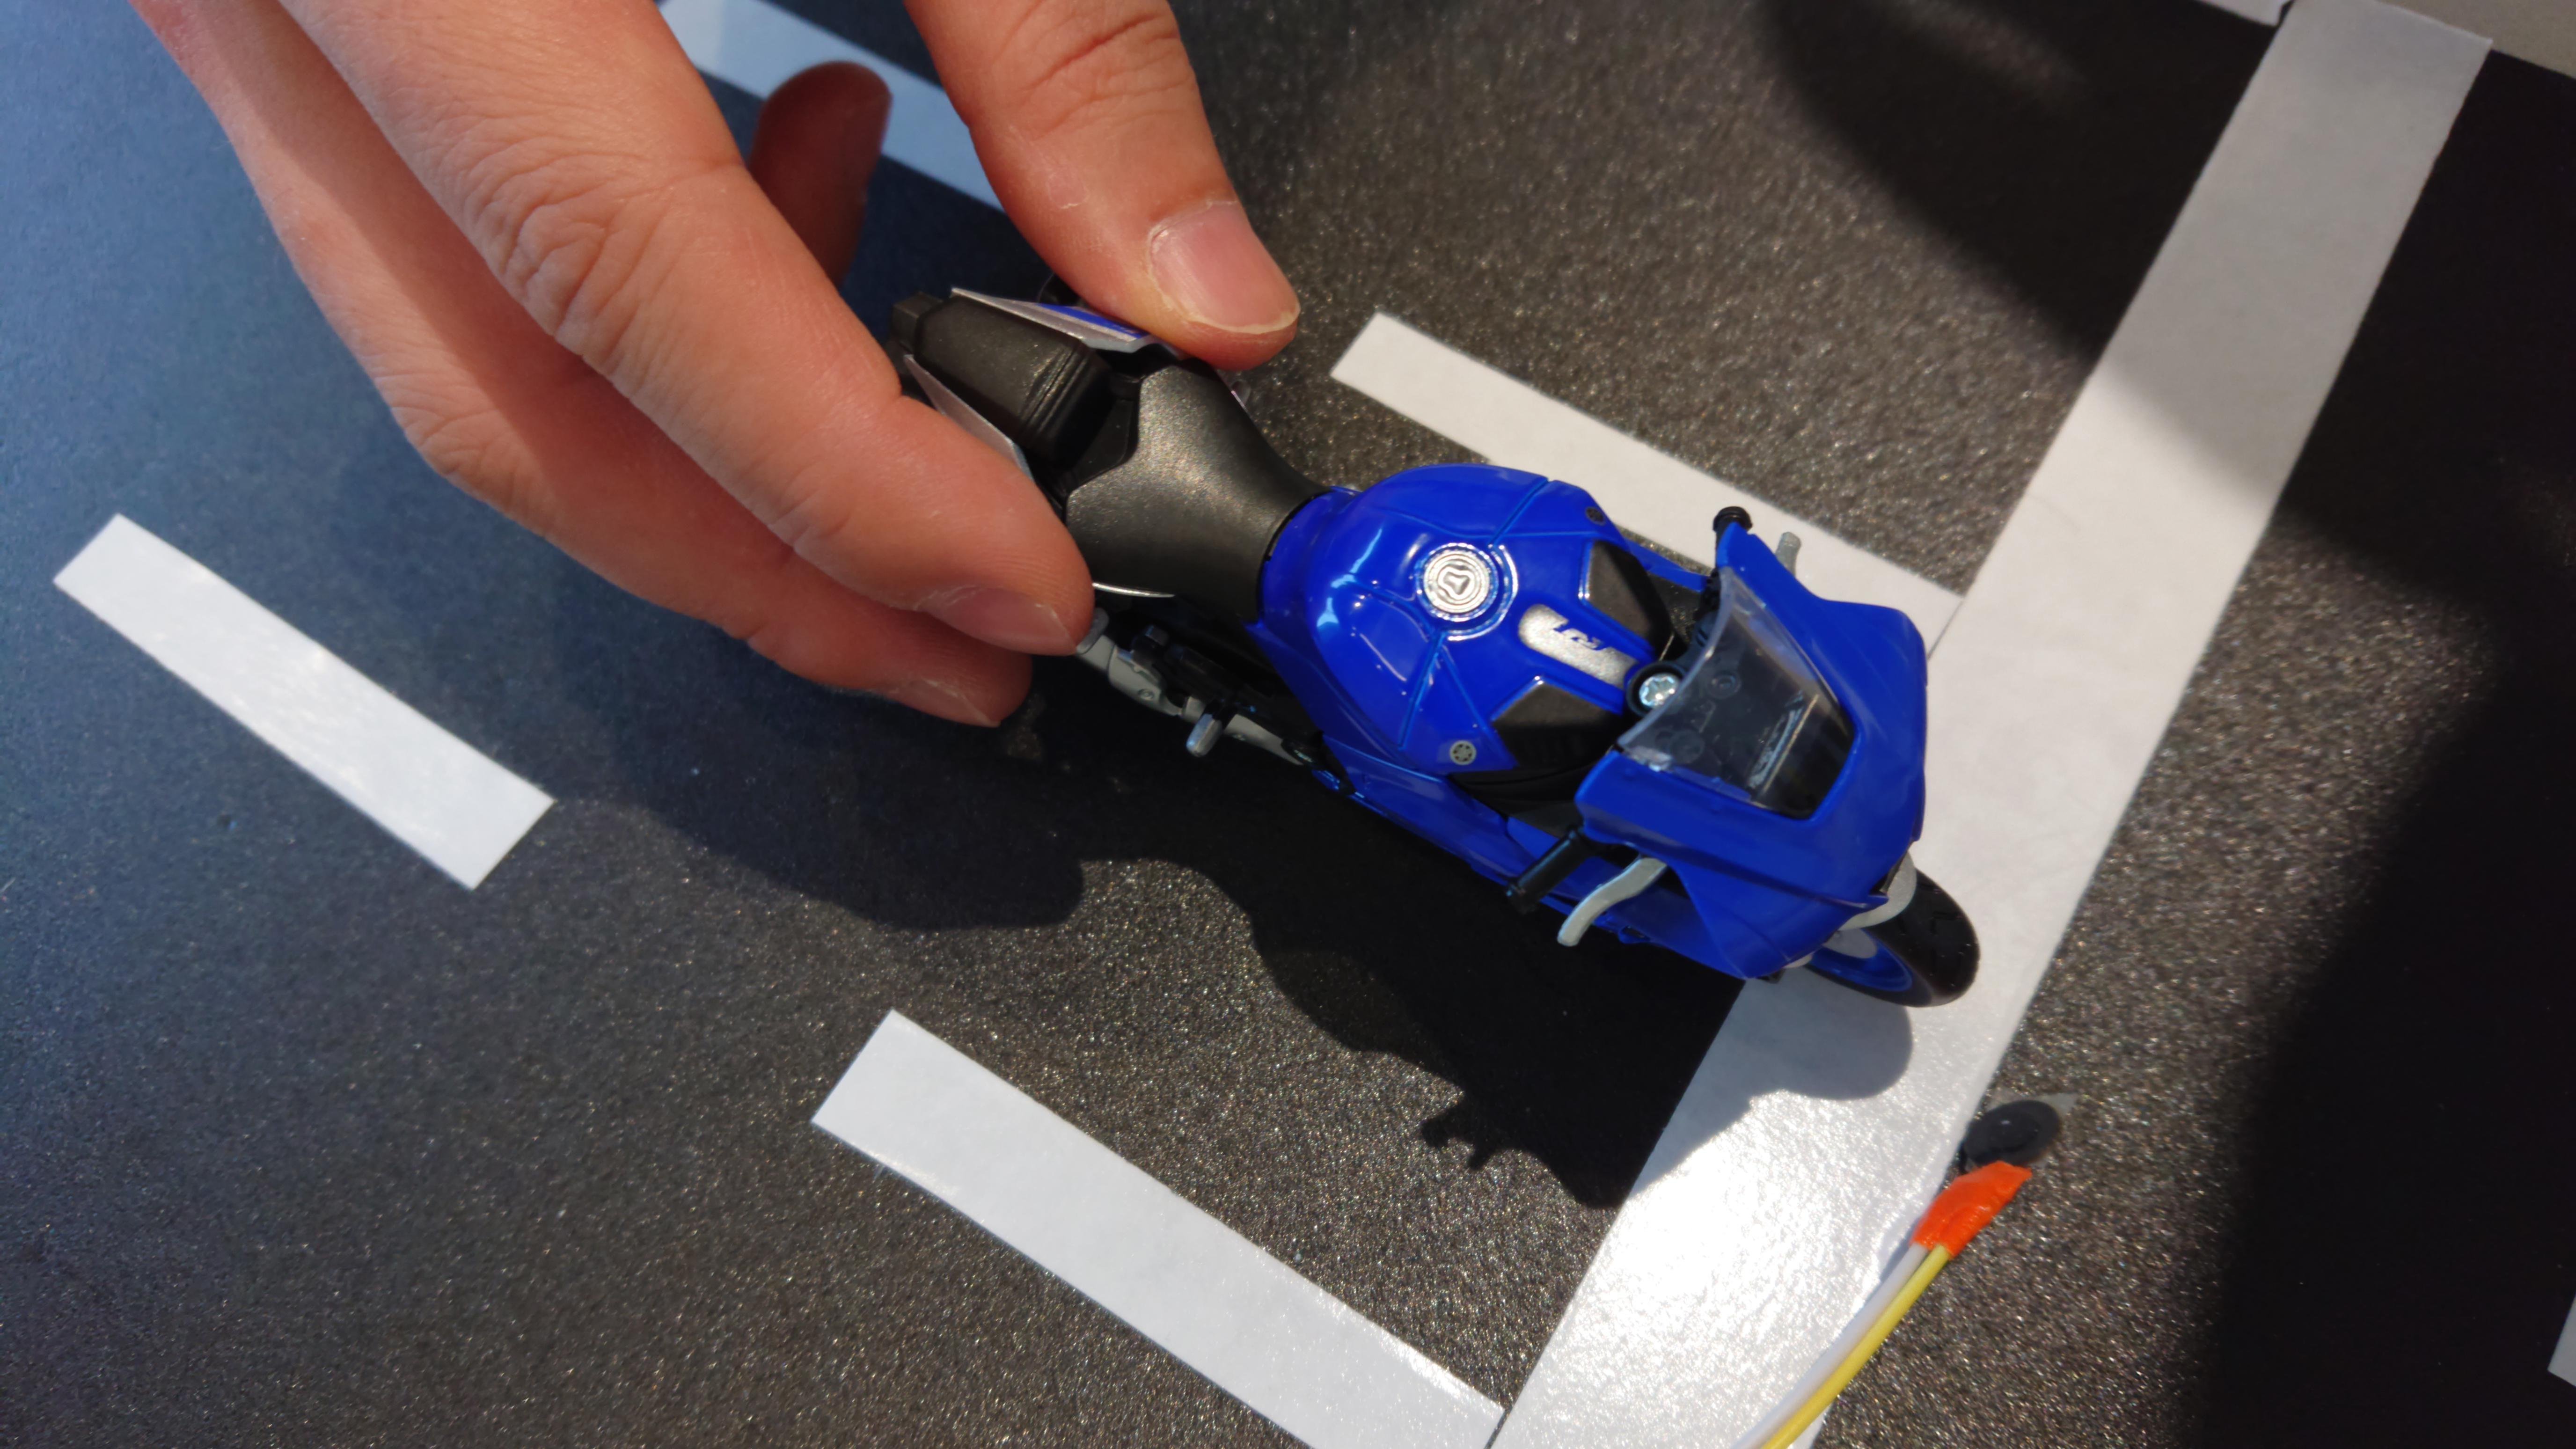Motorcycle: (883, 152, 2001, 1067)
